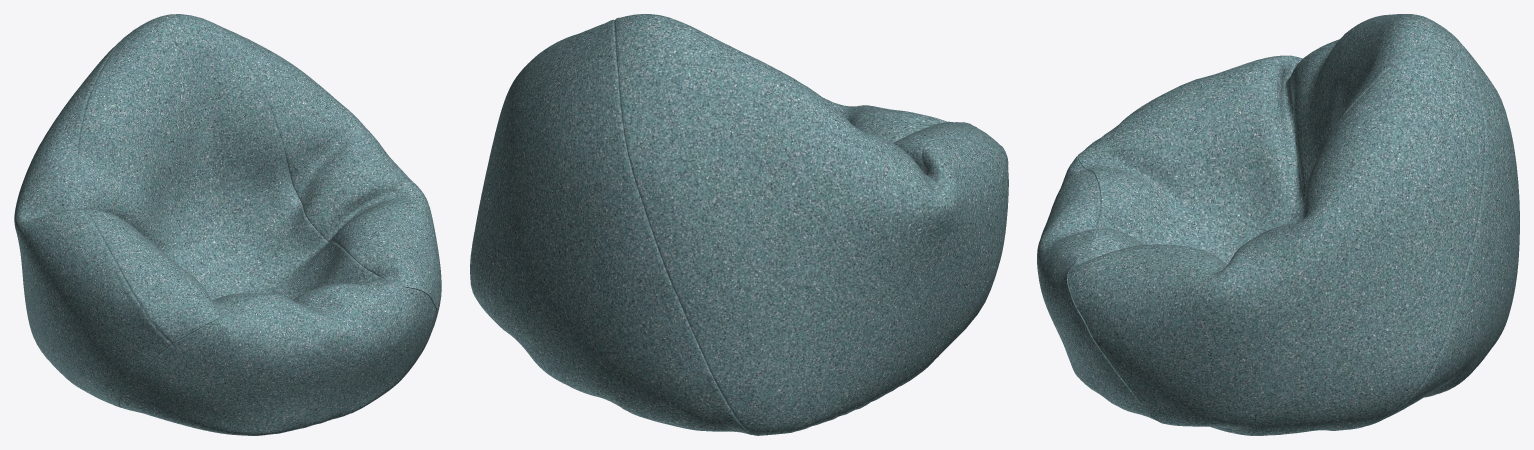
The model's file is beanbag_Aqua.gltf.
The picture shows the model from 3 angles, left to right: view 1: azimuth 30°, elevation 25°; view 2: azimuth 150°, elevation 25°; view 3: azimuth 270°, elevation 25°; orthographic projection. The views are drawn at different scales.
Visible parts, largest first — view 1: bean_bag_chair_mesh; view 2: bean_bag_chair_mesh; view 3: bean_bag_chair_mesh.
Part boxes in pixels (box(x1,y1,x2,y2)): bean_bag_chair_mesh: box(14, 14, 441, 435); bean_bag_chair_mesh: box(470, 14, 1008, 435); bean_bag_chair_mesh: box(1037, 14, 1519, 435).
Bounding box in the file's own units: 1.29 × 1 × 1.3.
Materials: 1 (1 with a texture image).
